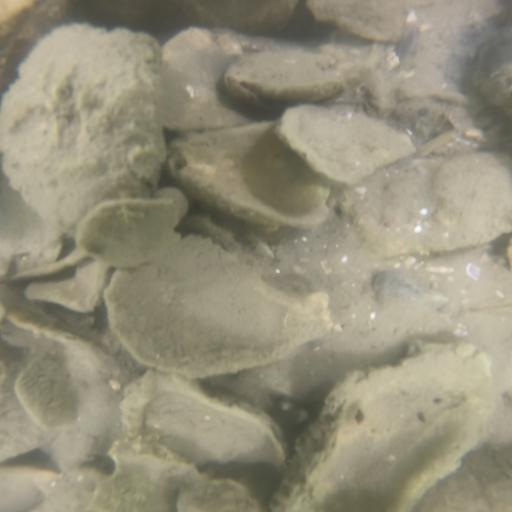Oyster-Closed: (1, 23, 172, 237), (279, 100, 418, 188), (220, 44, 384, 110), (305, 1, 411, 42)
